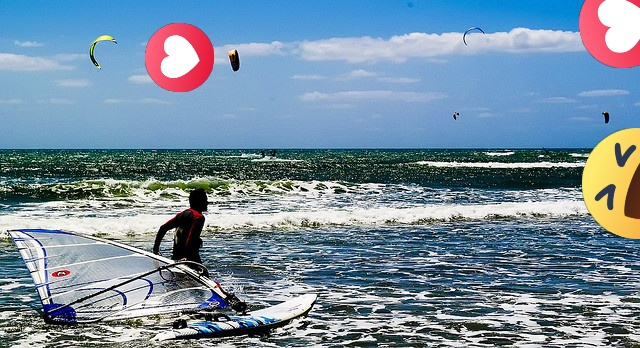haha: (582, 128, 640, 239)
love: (145, 23, 214, 92), (579, 0, 640, 68)
